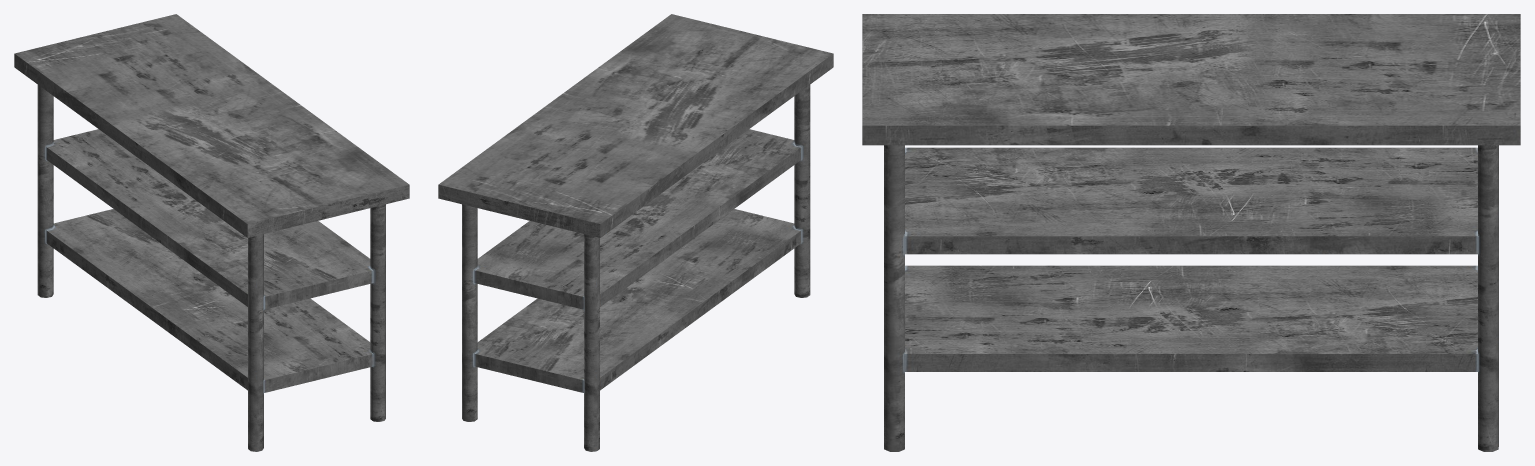
File: table_s.glb
The picture shows the model from 3 angles, left to right: view 1: azimuth 30°, elevation 25°; view 2: azimuth 150°, elevation 25°; view 3: azimuth 270°, elevation 25°; orthographic projection. The views are drawn at different scales.
Visible parts, largest first — view 1: defaultMaterial; view 2: defaultMaterial; view 3: defaultMaterial.
Part boxes in pixels (<box>): defaultMaterial: <box>14,14,409,451</box>; defaultMaterial: <box>438,14,833,451</box>; defaultMaterial: <box>862,14,1520,451</box>.
Bounding box in the file's own units: 0.61 × 0.857 × 1.52.
1 material, 1 textured.
